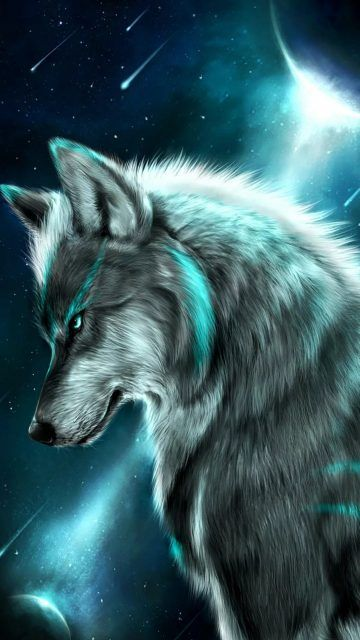Lobo: (1, 127, 344, 490)
